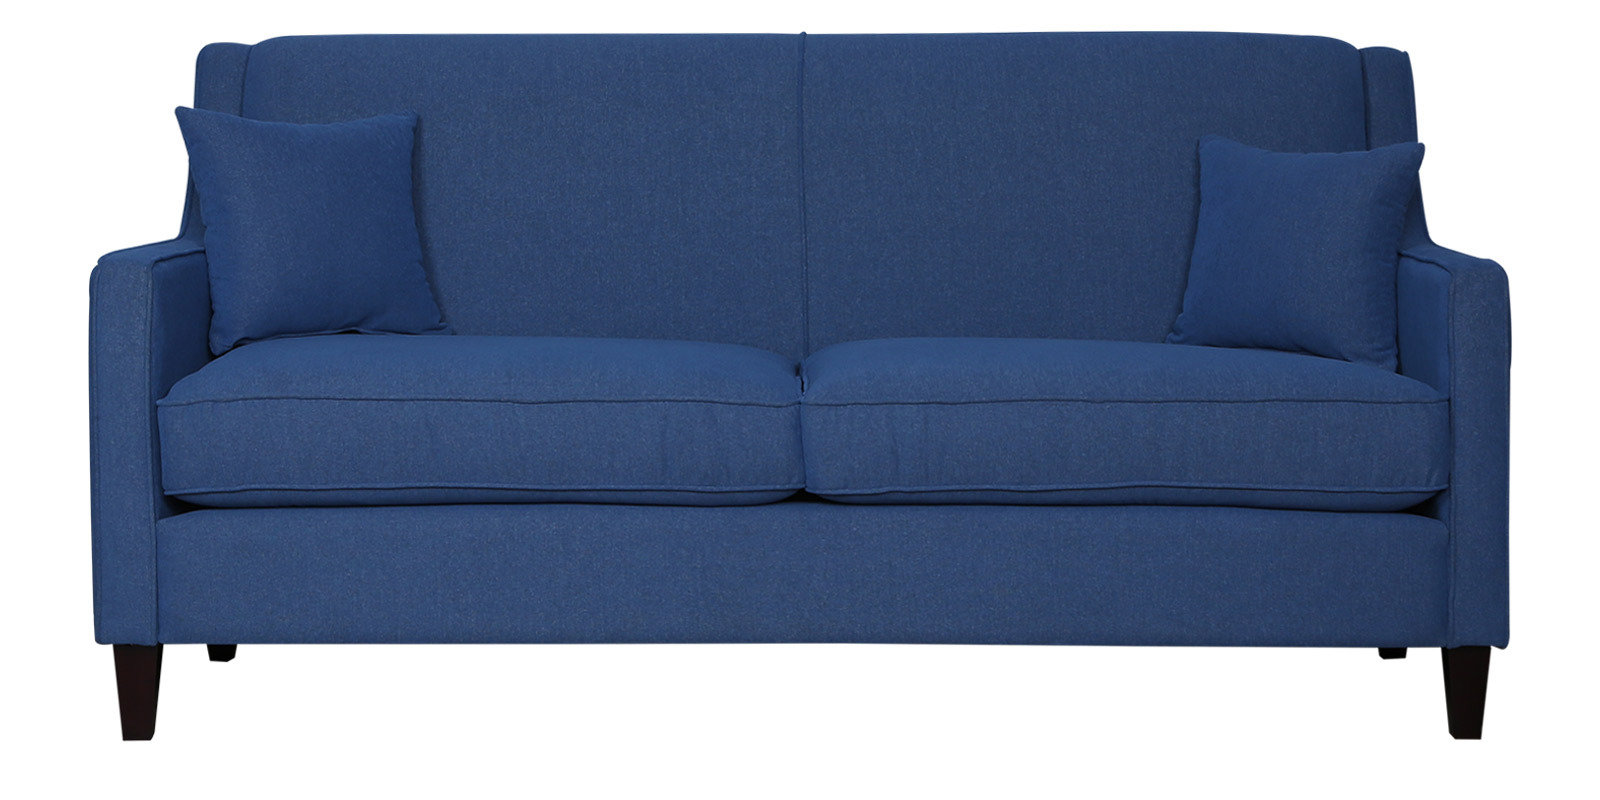Oscar Three Seater Sofa in Denim Blue Colour by CasaCraft: (89, 31, 1516, 742)
